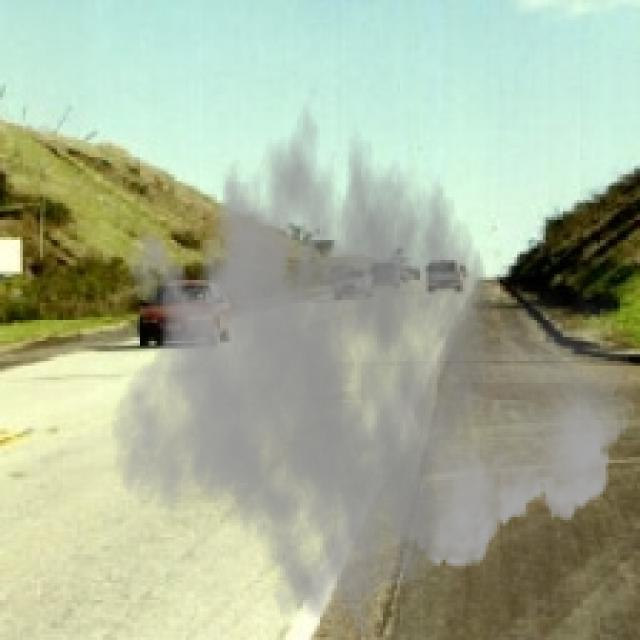Smoke: (108, 74, 639, 638)
